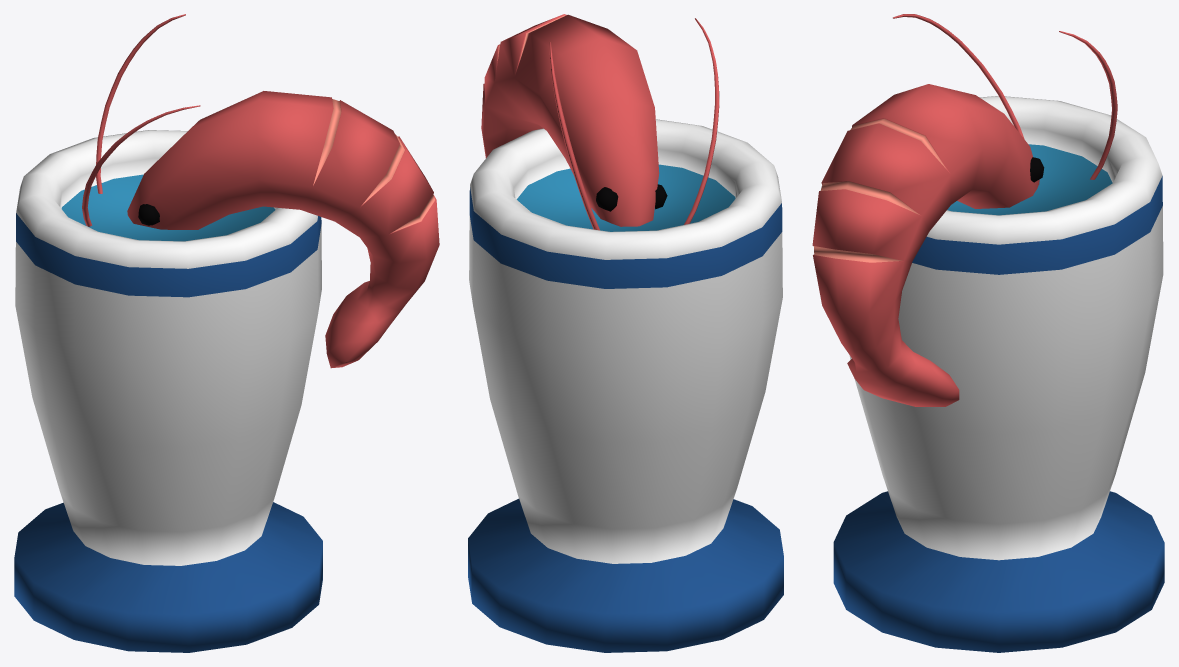
File: Krill_Shake_Food.glb
The picture shows the model from 3 angles, left to right: view 1: azimuth 30°, elevation 25°; view 2: azimuth 150°, elevation 25°; view 3: azimuth 270°, elevation 25°; orthographic projection. The views are drawn at different scales.
Parts seen in each view (by area): view 1: Krill_Shake_Food; view 2: Krill_Shake_Food; view 3: Krill_Shake_Food.
Boxes of the visible parts, box(x1,y1,x2,y2) form: Krill_Shake_Food: box(14, 14, 439, 652); Krill_Shake_Food: box(468, 14, 783, 652); Krill_Shake_Food: box(812, 14, 1164, 652).
Bounding box in the file's own units: 0.0997 × 0.153 × 0.0848.
Materials: 1 (1 with a texture image).
